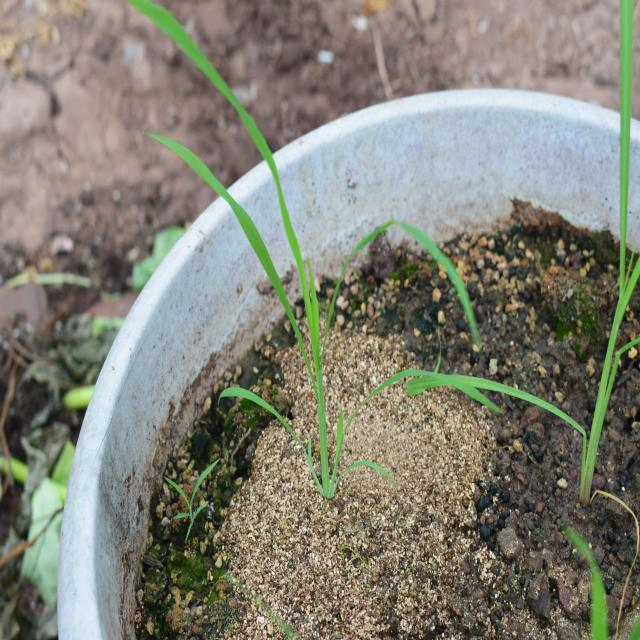barnyard_grass: (138, 13, 443, 452)
